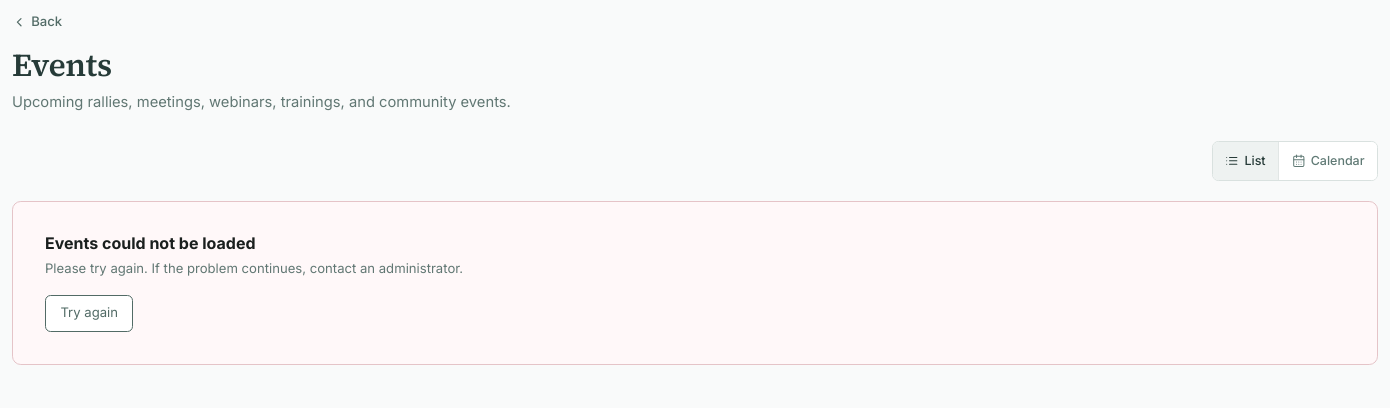
Events › shows a retry action when event loading fails
Expected: the heading "Events could not be loaded" is shown, [45,233,256,253]
Click the button "Try again" at (89,313), box [45,294,133,332]
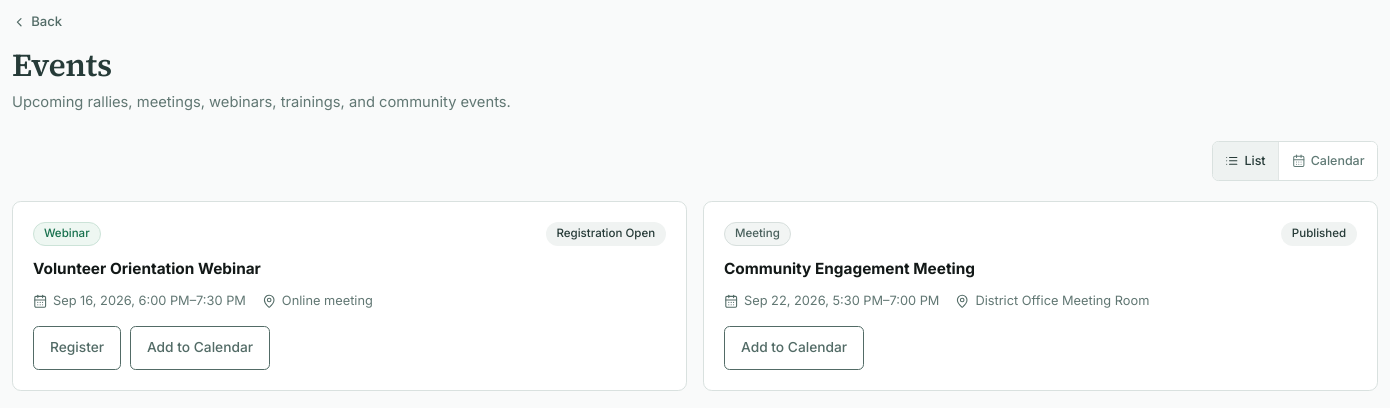
Expected: the heading "Volunteer Orientation Webinar" is shown, [33,259,261,280]
